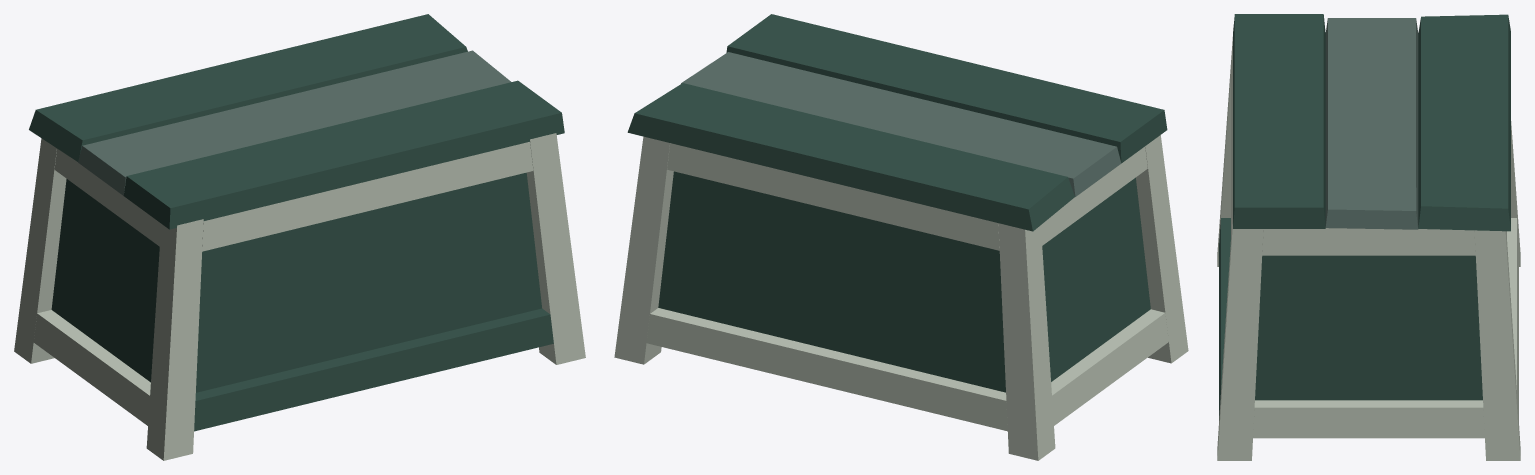
The model's file is childerns room chest.fbx.
The picture shows the model from 3 angles, left to right: view 1: azimuth 30°, elevation 25°; view 2: azimuth 150°, elevation 25°; view 3: azimuth 270°, elevation 25°; orthographic projection.
Visible parts, largest first — view 1: stuff children chest, chest.001; view 2: stuff children chest, chest.001; view 3: stuff children chest, chest.001.
Part boxes in pixels (x1,y1,x2,y2): stuff children chest: (14, 133, 585, 460); chest.001: (29, 14, 564, 229); stuff children chest: (614, 135, 1188, 460); chest.001: (627, 14, 1167, 231); stuff children chest: (1217, 37, 1520, 460); chest.001: (1233, 14, 1510, 231).
Bounding box in the file's own units: 1.79 × 0.9827 × 1.1.
